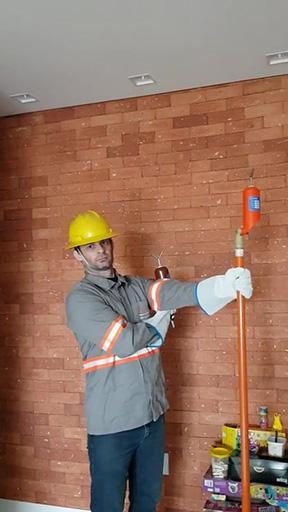Detector_Tensao_Contato: (241, 168, 260, 236), (149, 250, 174, 298)
Vara_Manobra: (232, 230, 253, 512)
